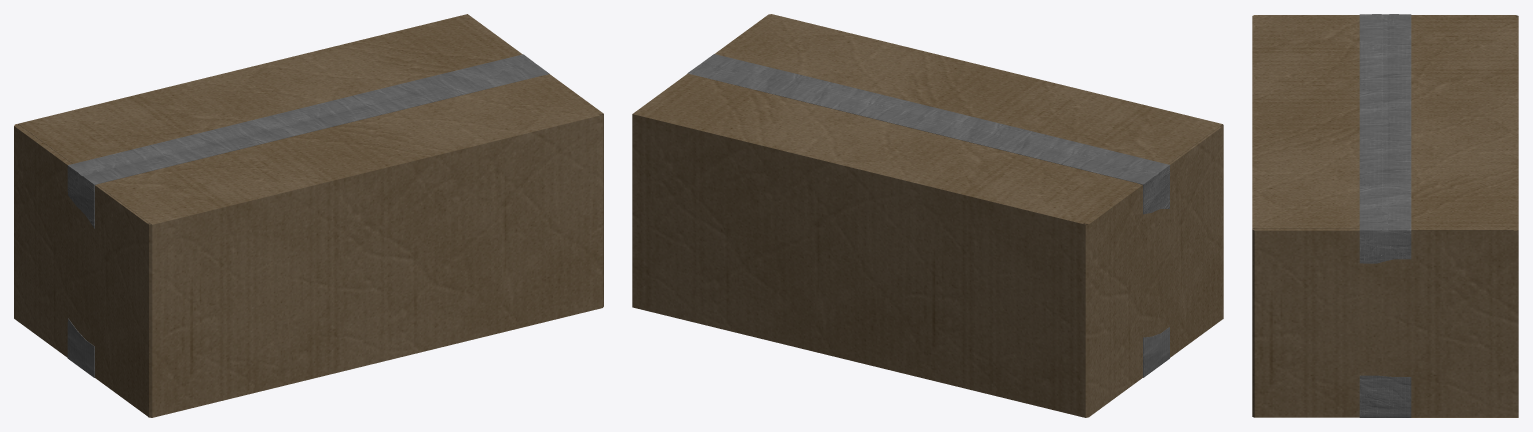
The model's file is archive_box.glb.
The picture shows the model from 3 angles, left to right: view 1: azimuth 30°, elevation 25°; view 2: azimuth 150°, elevation 25°; view 3: azimuth 270°, elevation 25°; orthographic projection. The views are drawn at different scales.
Visible parts, largest first — view 1: Cardboard Box SQ01.001; view 2: Cardboard Box SQ01.001; view 3: Cardboard Box SQ01.001.
Boxes of the visible parts, x1=… form: Cardboard Box SQ01.001: x1=14, y1=14, x2=603, y2=417; Cardboard Box SQ01.001: x1=632, y1=14, x2=1223, y2=417; Cardboard Box SQ01.001: x1=1252, y1=14, x2=1518, y2=417.
Size of what is drawn, in the model's own units: 0.7534 by 0.3073 by 0.3925.
1 material, 1 textured.
